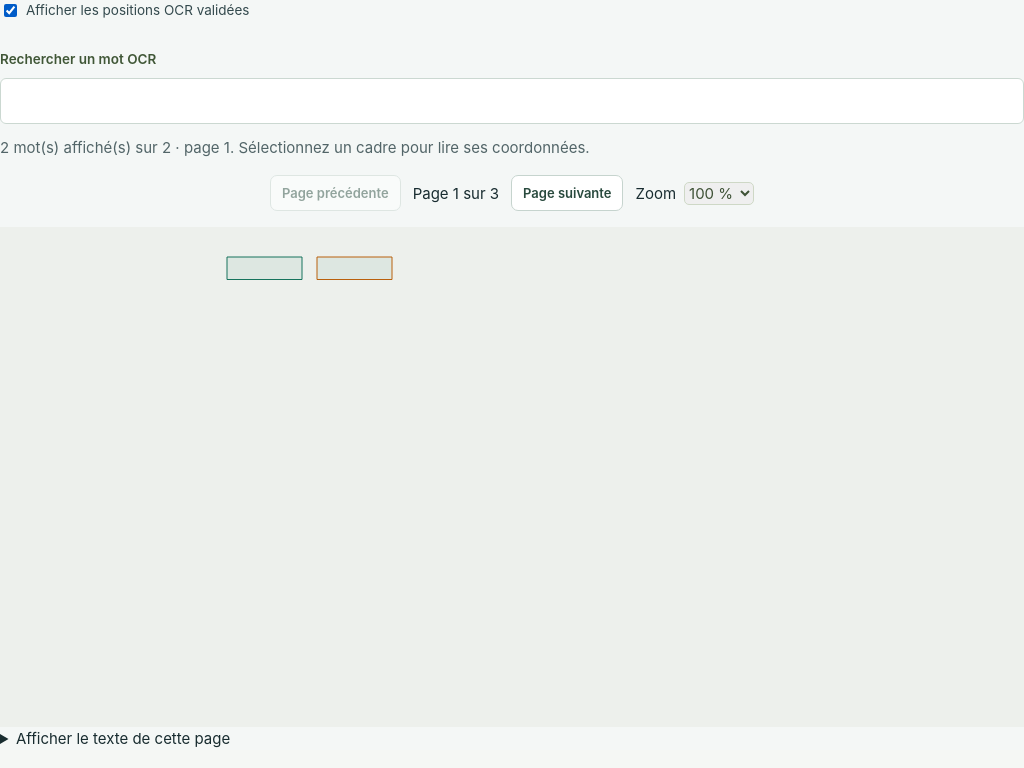
Test: superpose les cadres, filtre les mots et affiche leurs coordonnées par sélection clavier
The image size is (1024, 768).
Press Enter in the button "Mot 1 : NAPS2", box [227,257,302,280]
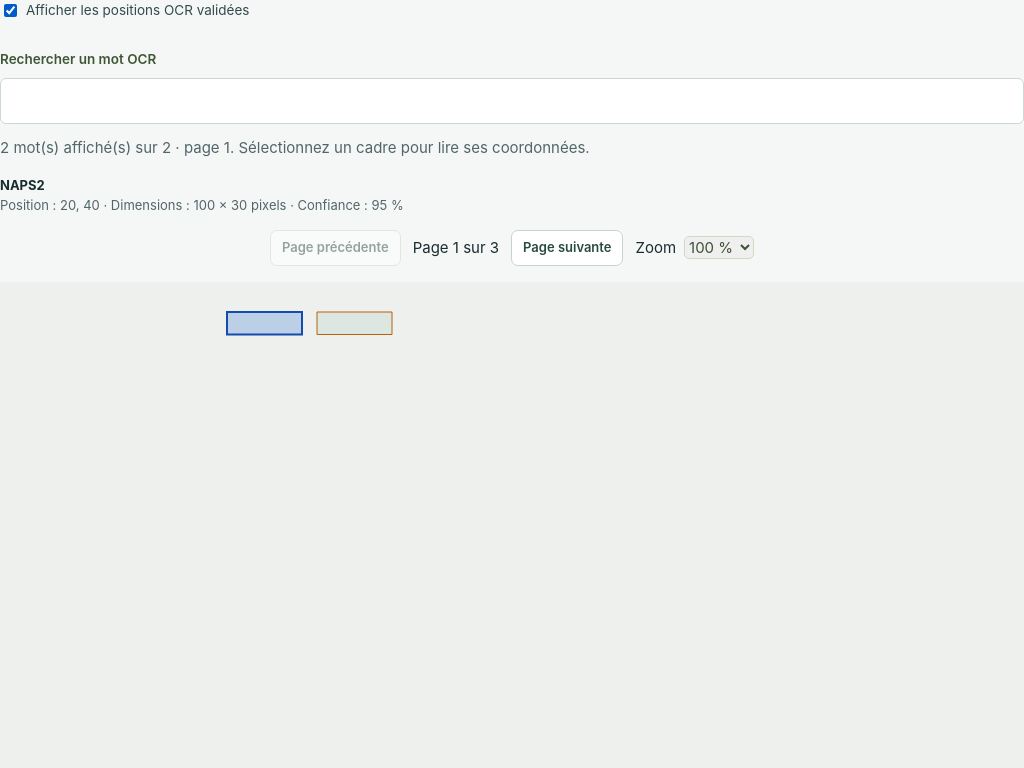
Now the text "Position : 20, 40" is shown, box [0,198,404,214]
In the field labelled "Rechercher un mot OCR": (512, 101) [0,78,1023,124], type "naps2"
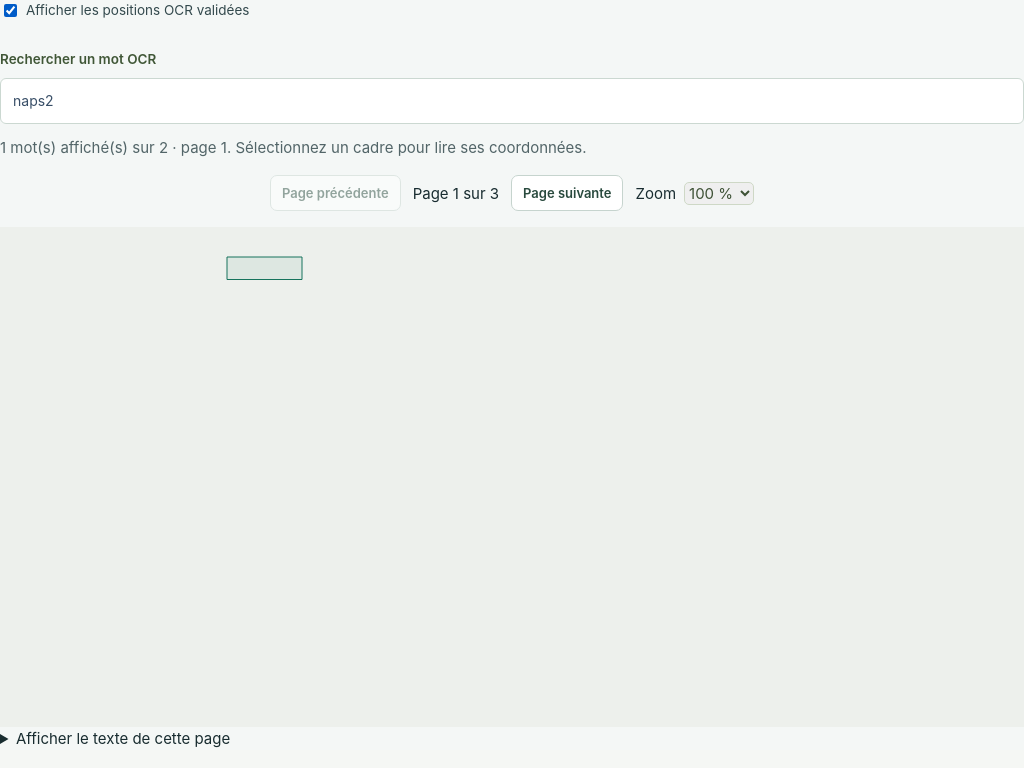
Now the text "1 mot(s) affiché(s) sur 2" is shown, box [0,138,587,157]
